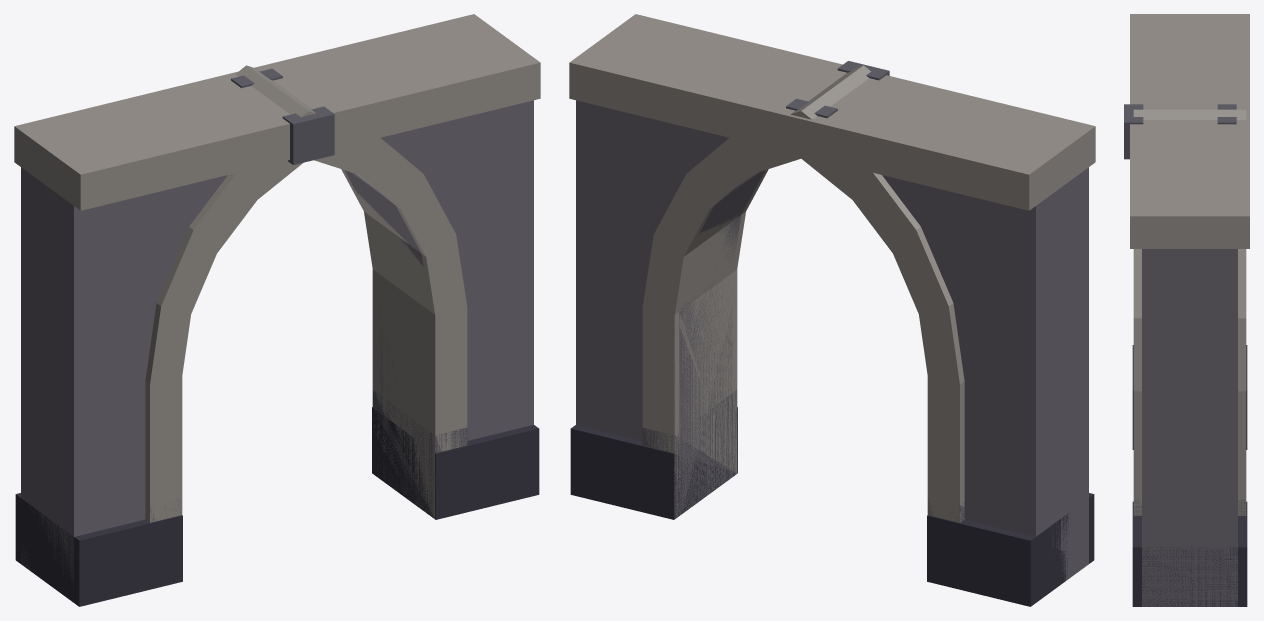
The model's file is wall_arch_open.fbx.
3 views of the same model, side by side, from view 1: azimuth 30°, elevation 25°; view 2: azimuth 150°, elevation 25°; view 3: azimuth 270°, elevation 25° (orthographic). The views are drawn at different scales.
Parts seen in each view (by area): view 1: wall_arch_open; view 2: wall_arch_open; view 3: wall_arch_open.
Boxes of the visible parts, left/top/right/bottom form: wall_arch_open: left=14, top=14, right=540, bottom=606; wall_arch_open: left=569, top=14, right=1095, bottom=606; wall_arch_open: left=1124, top=14, right=1249, bottom=606.
Size of the model in its own units: 4 by 3.65 by 1.05.
